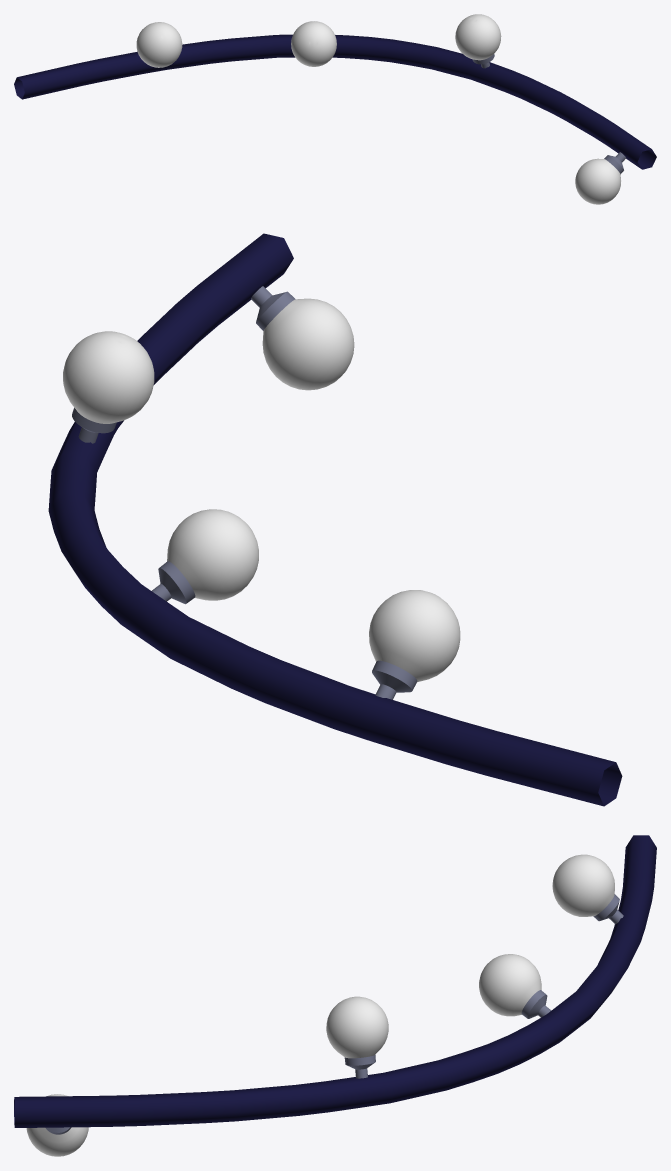
Rendered from Guirlande courbe.002.fbx.
3 renders of one model, top to bottom at view 1: azimuth 30°, elevation 25°; view 2: azimuth 150°, elevation 25°; view 3: azimuth 270°, elevation 25°, orthographic. The views are drawn at different scales.
Parts seen in each view (by area): view 1: BézierCurve; view 2: BézierCurve; view 3: BézierCurve.
Part boxes in pixels (x1,y1,x2,y2): BézierCurve: (14,14,656,204); BézierCurve: (48,233,622,806); BézierCurve: (14,835,656,1156).
Bounding box in the file's own units: 205 × 205 × 51.92.
